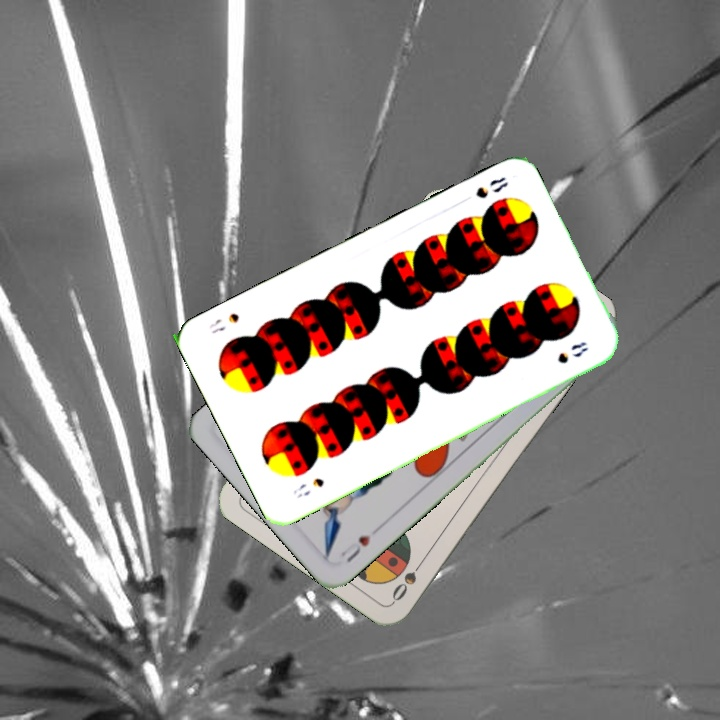HU: (336, 530, 373, 565)
S8: (471, 172, 511, 202), (289, 473, 327, 502)
SO: (387, 553, 428, 605)
